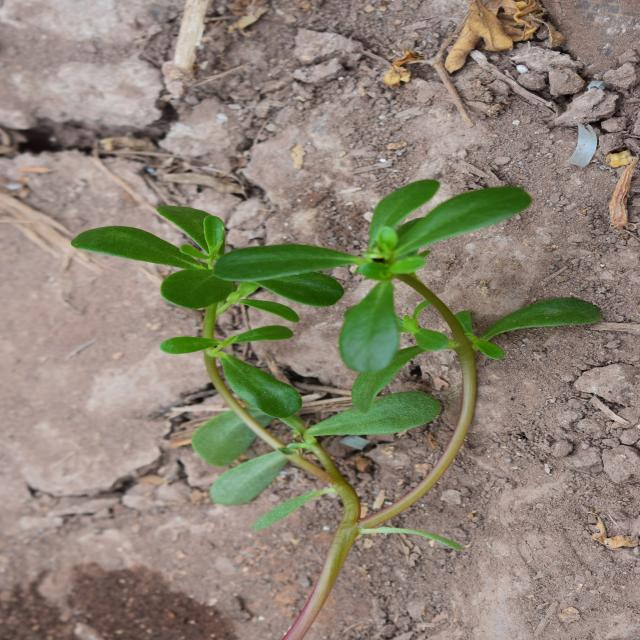purslane: (87, 74, 476, 586)
